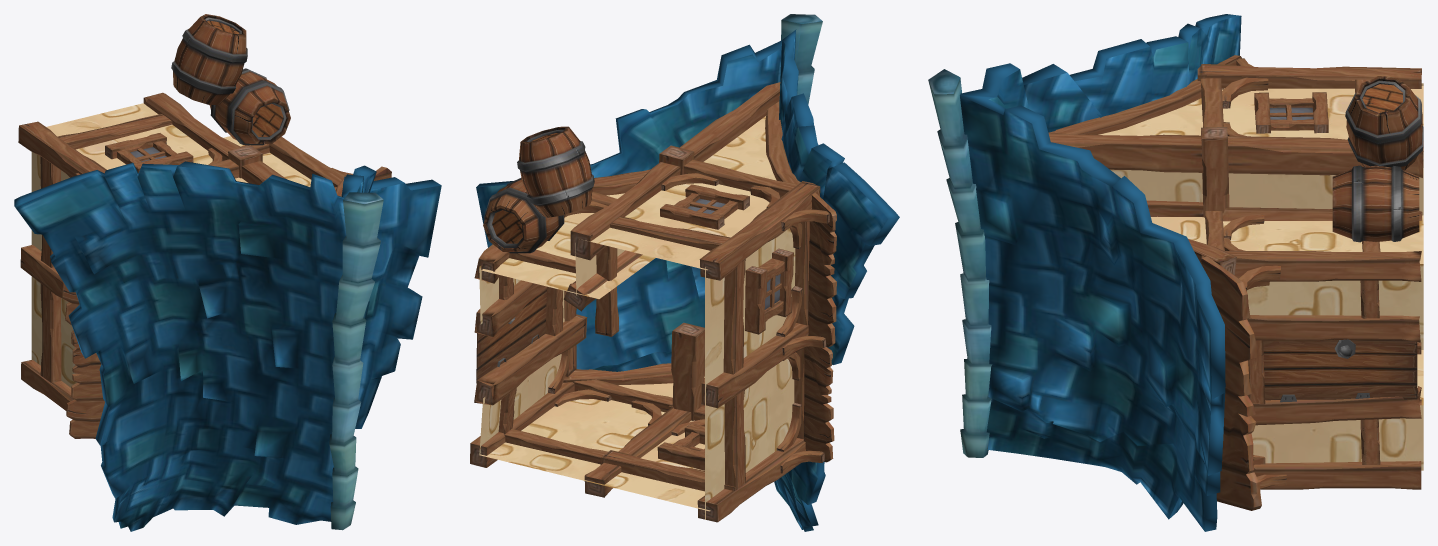
File: home.glb
3 renders of one model, left to right at view 1: azimuth 30°, elevation 25°; view 2: azimuth 150°, elevation 25°; view 3: azimuth 270°, elevation 25°, orthographic. The views are drawn at different scales.
Parts seen in each view (by area): view 1: roof, carcas, barrels, walls, visors, windows; view 2: carcas, roof, walls, barrels, windows, visors, door; view 3: roof, carcas, walls, barrels, door, visors, windows.
Part boxes in pixels (x1=…): roof: x1=14, y1=161, x2=441, y2=531; carcas: x1=18, y1=92, x2=352, y2=410; barrels: x1=171, y1=14, x2=290, y2=145; walls: x1=31, y1=103, x2=311, y2=387; visors: x1=62, y1=166, x2=391, y2=438; windows: x1=105, y1=133, x2=193, y2=172; carcas: x1=470, y1=82, x2=829, y2=522; roof: x1=476, y1=14, x2=899, y2=531; walls: x1=479, y1=116, x2=795, y2=519; barrels: x1=483, y1=126, x2=594, y2=253; windows: x1=657, y1=184, x2=793, y2=470; visors: x1=804, y1=192, x2=836, y2=462; door: x1=476, y1=287, x2=546, y2=382; roof: x1=928, y1=14, x2=1241, y2=531; carcas: x1=1048, y1=58, x2=1423, y2=489; walls: x1=1098, y1=83, x2=1423, y2=470; barrels: x1=1332, y1=76, x2=1423, y2=242; door: x1=1263, y1=339, x2=1417, y2=402; visors: x1=1201, y1=55, x2=1261, y2=510; windows: x1=1254, y1=92, x2=1328, y2=133.
Size of the model in its own units: 7.27 by 6.81 by 6.63.
Materials: 2 (2 with a texture image).
